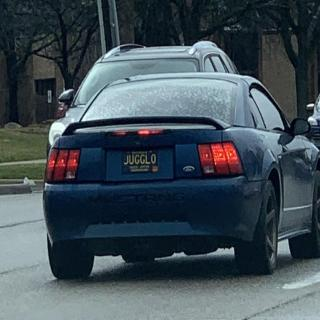license: (122, 149, 159, 175)
